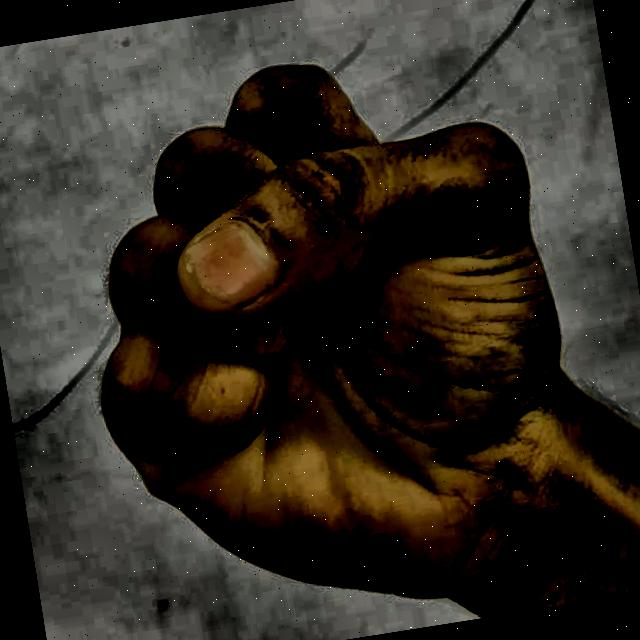Sha: (29, 9, 637, 640)
